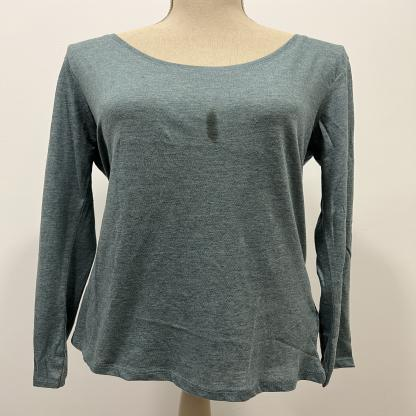stain: (202, 102, 224, 146)
